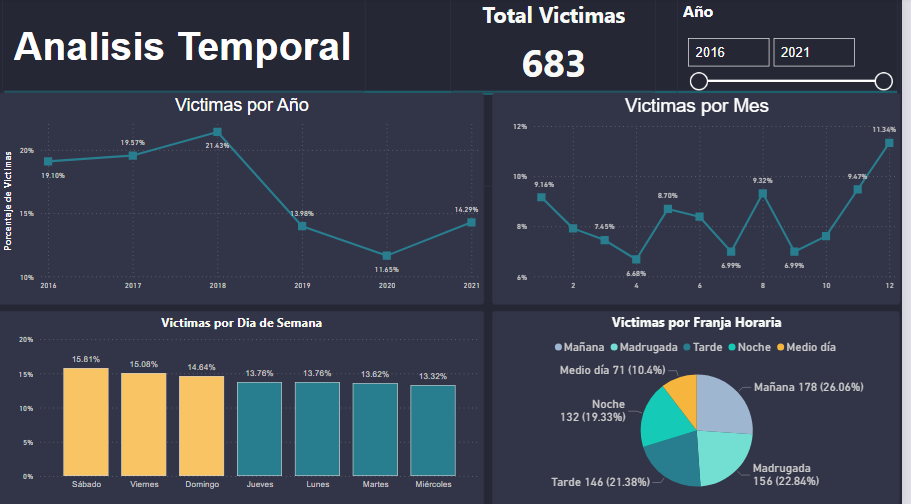

What the dashboard file says about the page in this screenshot:
{"tool":"powerbi","page":{"name":"Analisis Temporal","canvas":[1280,720],"ordinal":2},"visuals":[{"type":"shape","box":[5,0,1269.9,267.1],"z":0},{"type":"shape","box":[0,0,520.7,134.4],"z":1000},{"type":"card","title":"Total Victimas","fields":{"Values":["Sum(homicidios_cleaned.nro_victimas)"]},"box":[640,0,292.3,134.4],"z":2000},{"type":"slicer","title":"Año","fields":{"Values":["Calendario.Año"]},"box":[962.5,0,317.5,149.5],"z":3000},{"type":"lineChart","title":"Victimas por Año","fields":{"Category":["Calendario.Año"],"Y":["CountNonNull(homicidios_cleaned.id_siniestro)"]},"box":[0,134.2,689,300],"z":4000},{"type":"lineChart","title":"Victimas por Mes","fields":{"Category":["Calendario.Mes"],"Y":["CountNonNull(homicidios_cleaned.id_siniestro)"]},"box":[700,134.3,579.1,300],"z":5000},{"type":"columnChart","title":"Victimas por Dia de Semana","fields":{"Y":["Sum(homicidios_cleaned.nro_victimas)"],"Category":["homicidios_cleaned.Dia_Semana"]},"box":[0,444,689,276],"z":6000},{"type":"pieChart","title":"Victimas por Franja Horaria","fields":{"Category":["homicidios_cleaned.Rango Etario"],"Y":["Sum(homicidios_cleaned.nro_victimas)"]},"box":[700.2,443.6,578.3,276.4],"z":7000}]}

Visuals, with their boxes in screenshot pixels (x1, y1, x2, y2), scaled from the page's 1280x720 canvas onto the 911x504 screenshot:
shape: [4, 0, 907, 187]
shape: [0, 0, 371, 94]
"Total Victimas" card: [456, 0, 664, 94]
"Año" slicer: [685, 0, 910, 105]
"Victimas por Año" lineChart: [0, 94, 490, 304]
"Victimas por Mes" lineChart: [498, 94, 910, 304]
"Victimas por Dia de Semana" columnChart: [0, 311, 490, 503]
"Victimas por Franja Horaria" pieChart: [498, 311, 910, 503]
